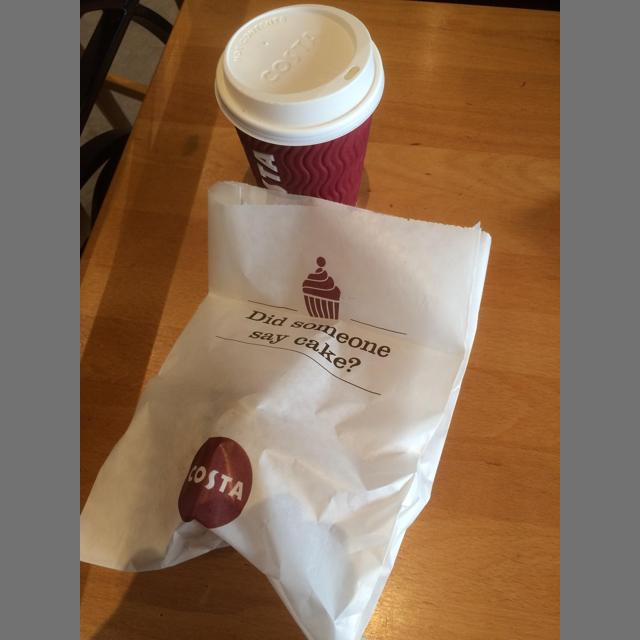litter: (80, 181, 491, 639), (215, 4, 385, 206), (215, 4, 384, 146)
